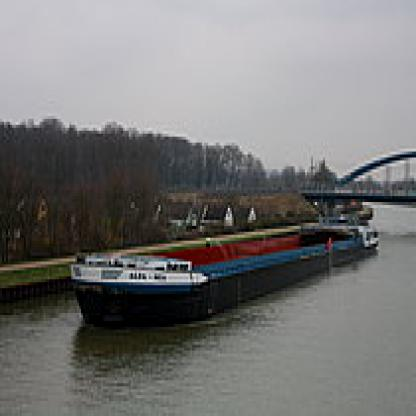Tanker: (82, 228, 378, 338)
